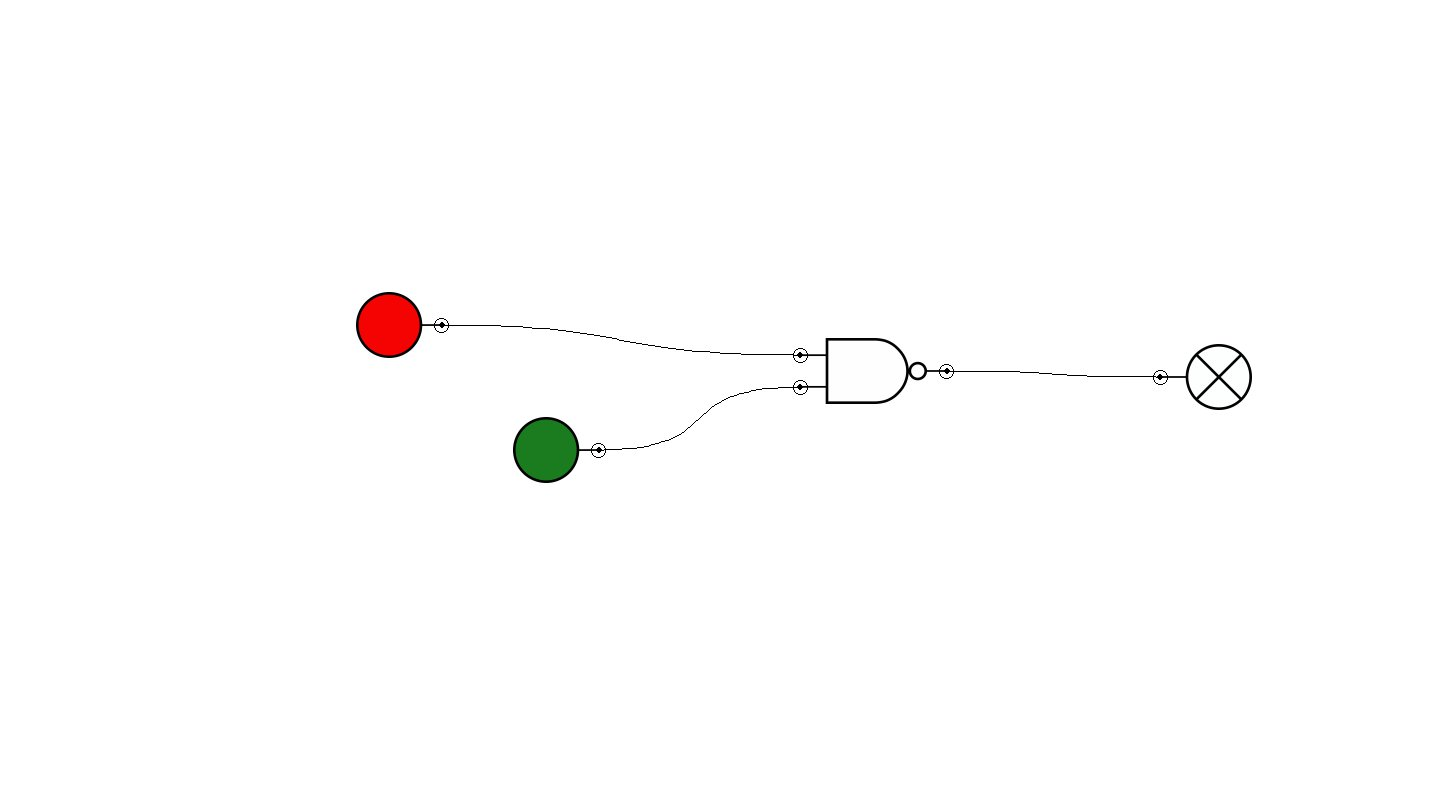bulb: (1153, 344, 1252, 410)
nand: (793, 338, 954, 404)
switch_False: (356, 292, 449, 358)
switch_True: (513, 417, 606, 483)
